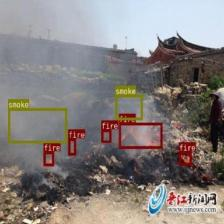fire: (119, 122, 162, 148), (178, 151, 191, 165), (43, 150, 54, 166), (101, 129, 111, 142), (68, 138, 75, 155)
smoke: (7, 107, 66, 143), (115, 94, 142, 120)
